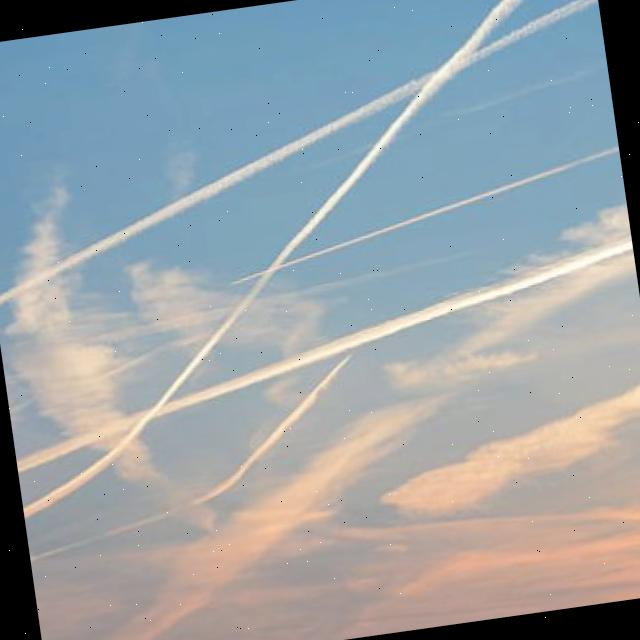Ct: (1, 1, 640, 499)
